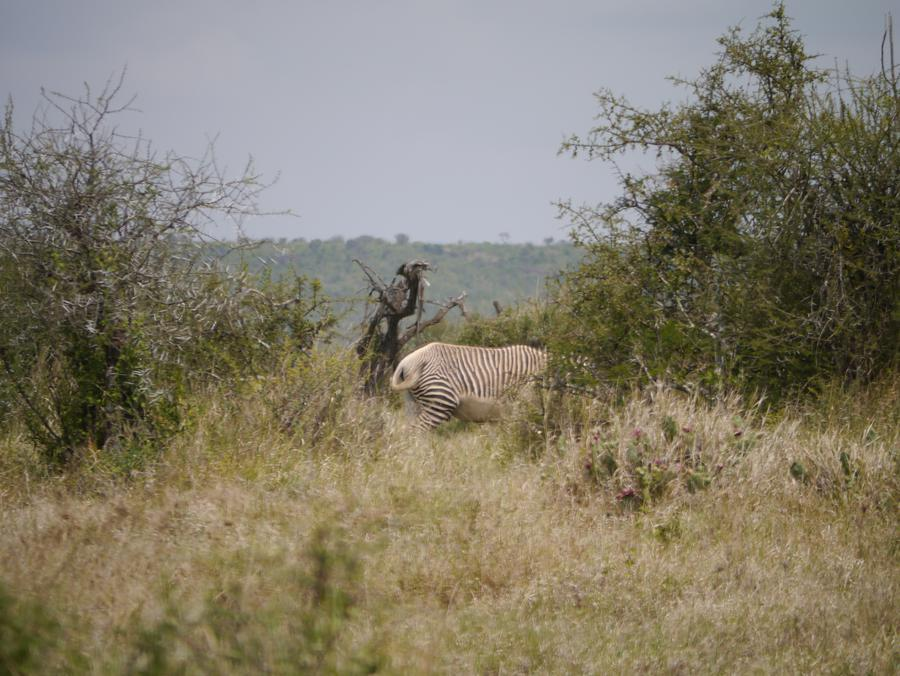zebra_grevys: (396, 334, 521, 411)
